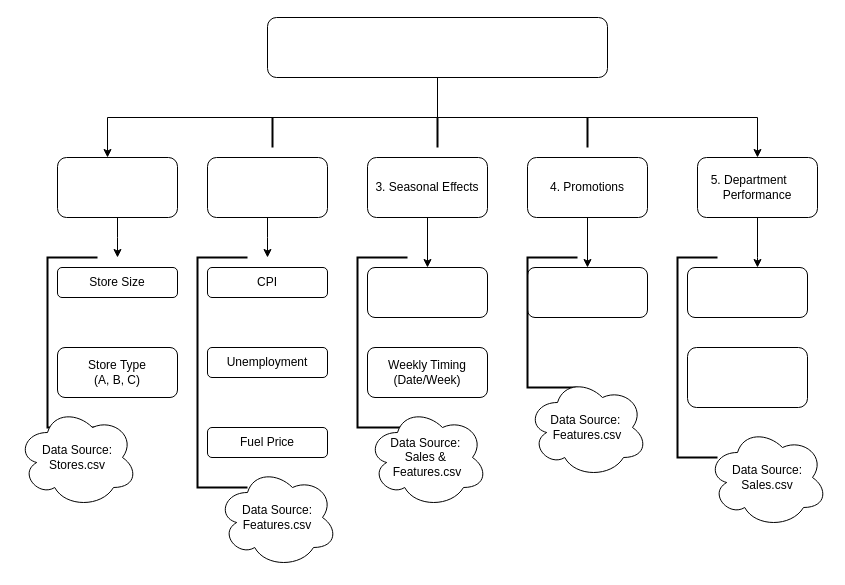
Some shapes in this 845 by 585 pixel diagram are drawn without their labels. The centre of each missing label's shape, as x and y in pixels:
"1. Store Characteristics" goes at (117,187).
"2. Economic Conditions" goes at (267,187).
"High Performing Departments" goes at (747,292).
"Holiday (IsHoliday)" goes at (427,292).
"Low Performing Departments" goes at (747,377).
"Markdown1 -Markdown5" goes at (587,292).
"What Drives Retail Sales Performance?" goes at (437,47).
